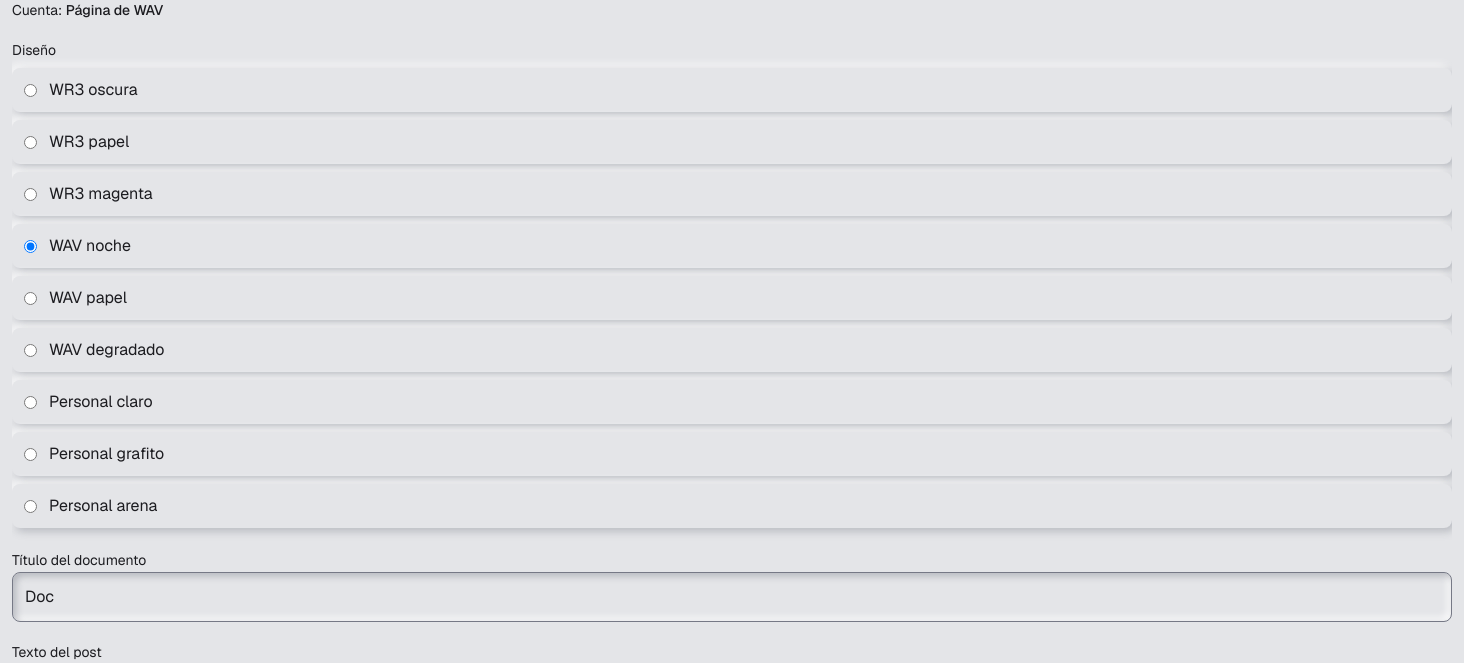
it: EditorDeCarrusel › prefills the slides, and the closing link follows the family when the theme changes
Click the radio button labelled "WR3 oscura": (30, 90) [24,84,37,96]
(page scrolled)
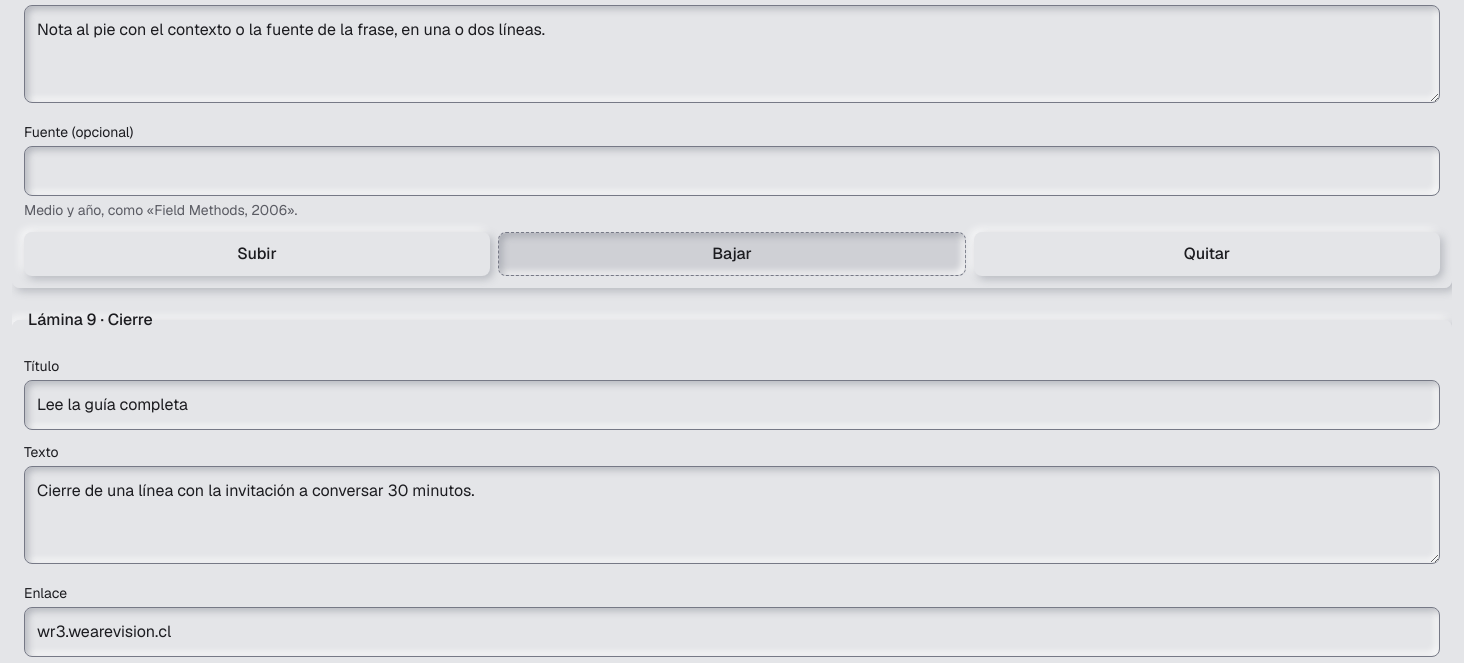
Expected: the field labelled "Enlace" holds "wr3.wearevision.cl", [24,607,1440,657]
Expected: the field labelled "Título" holds "Lee la guía completa", [24,380,1440,430]
